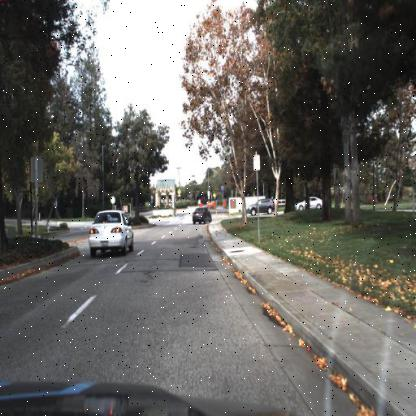car: (86, 209, 134, 257), (244, 192, 276, 219), (292, 192, 323, 211), (294, 194, 323, 212), (190, 206, 213, 224)
